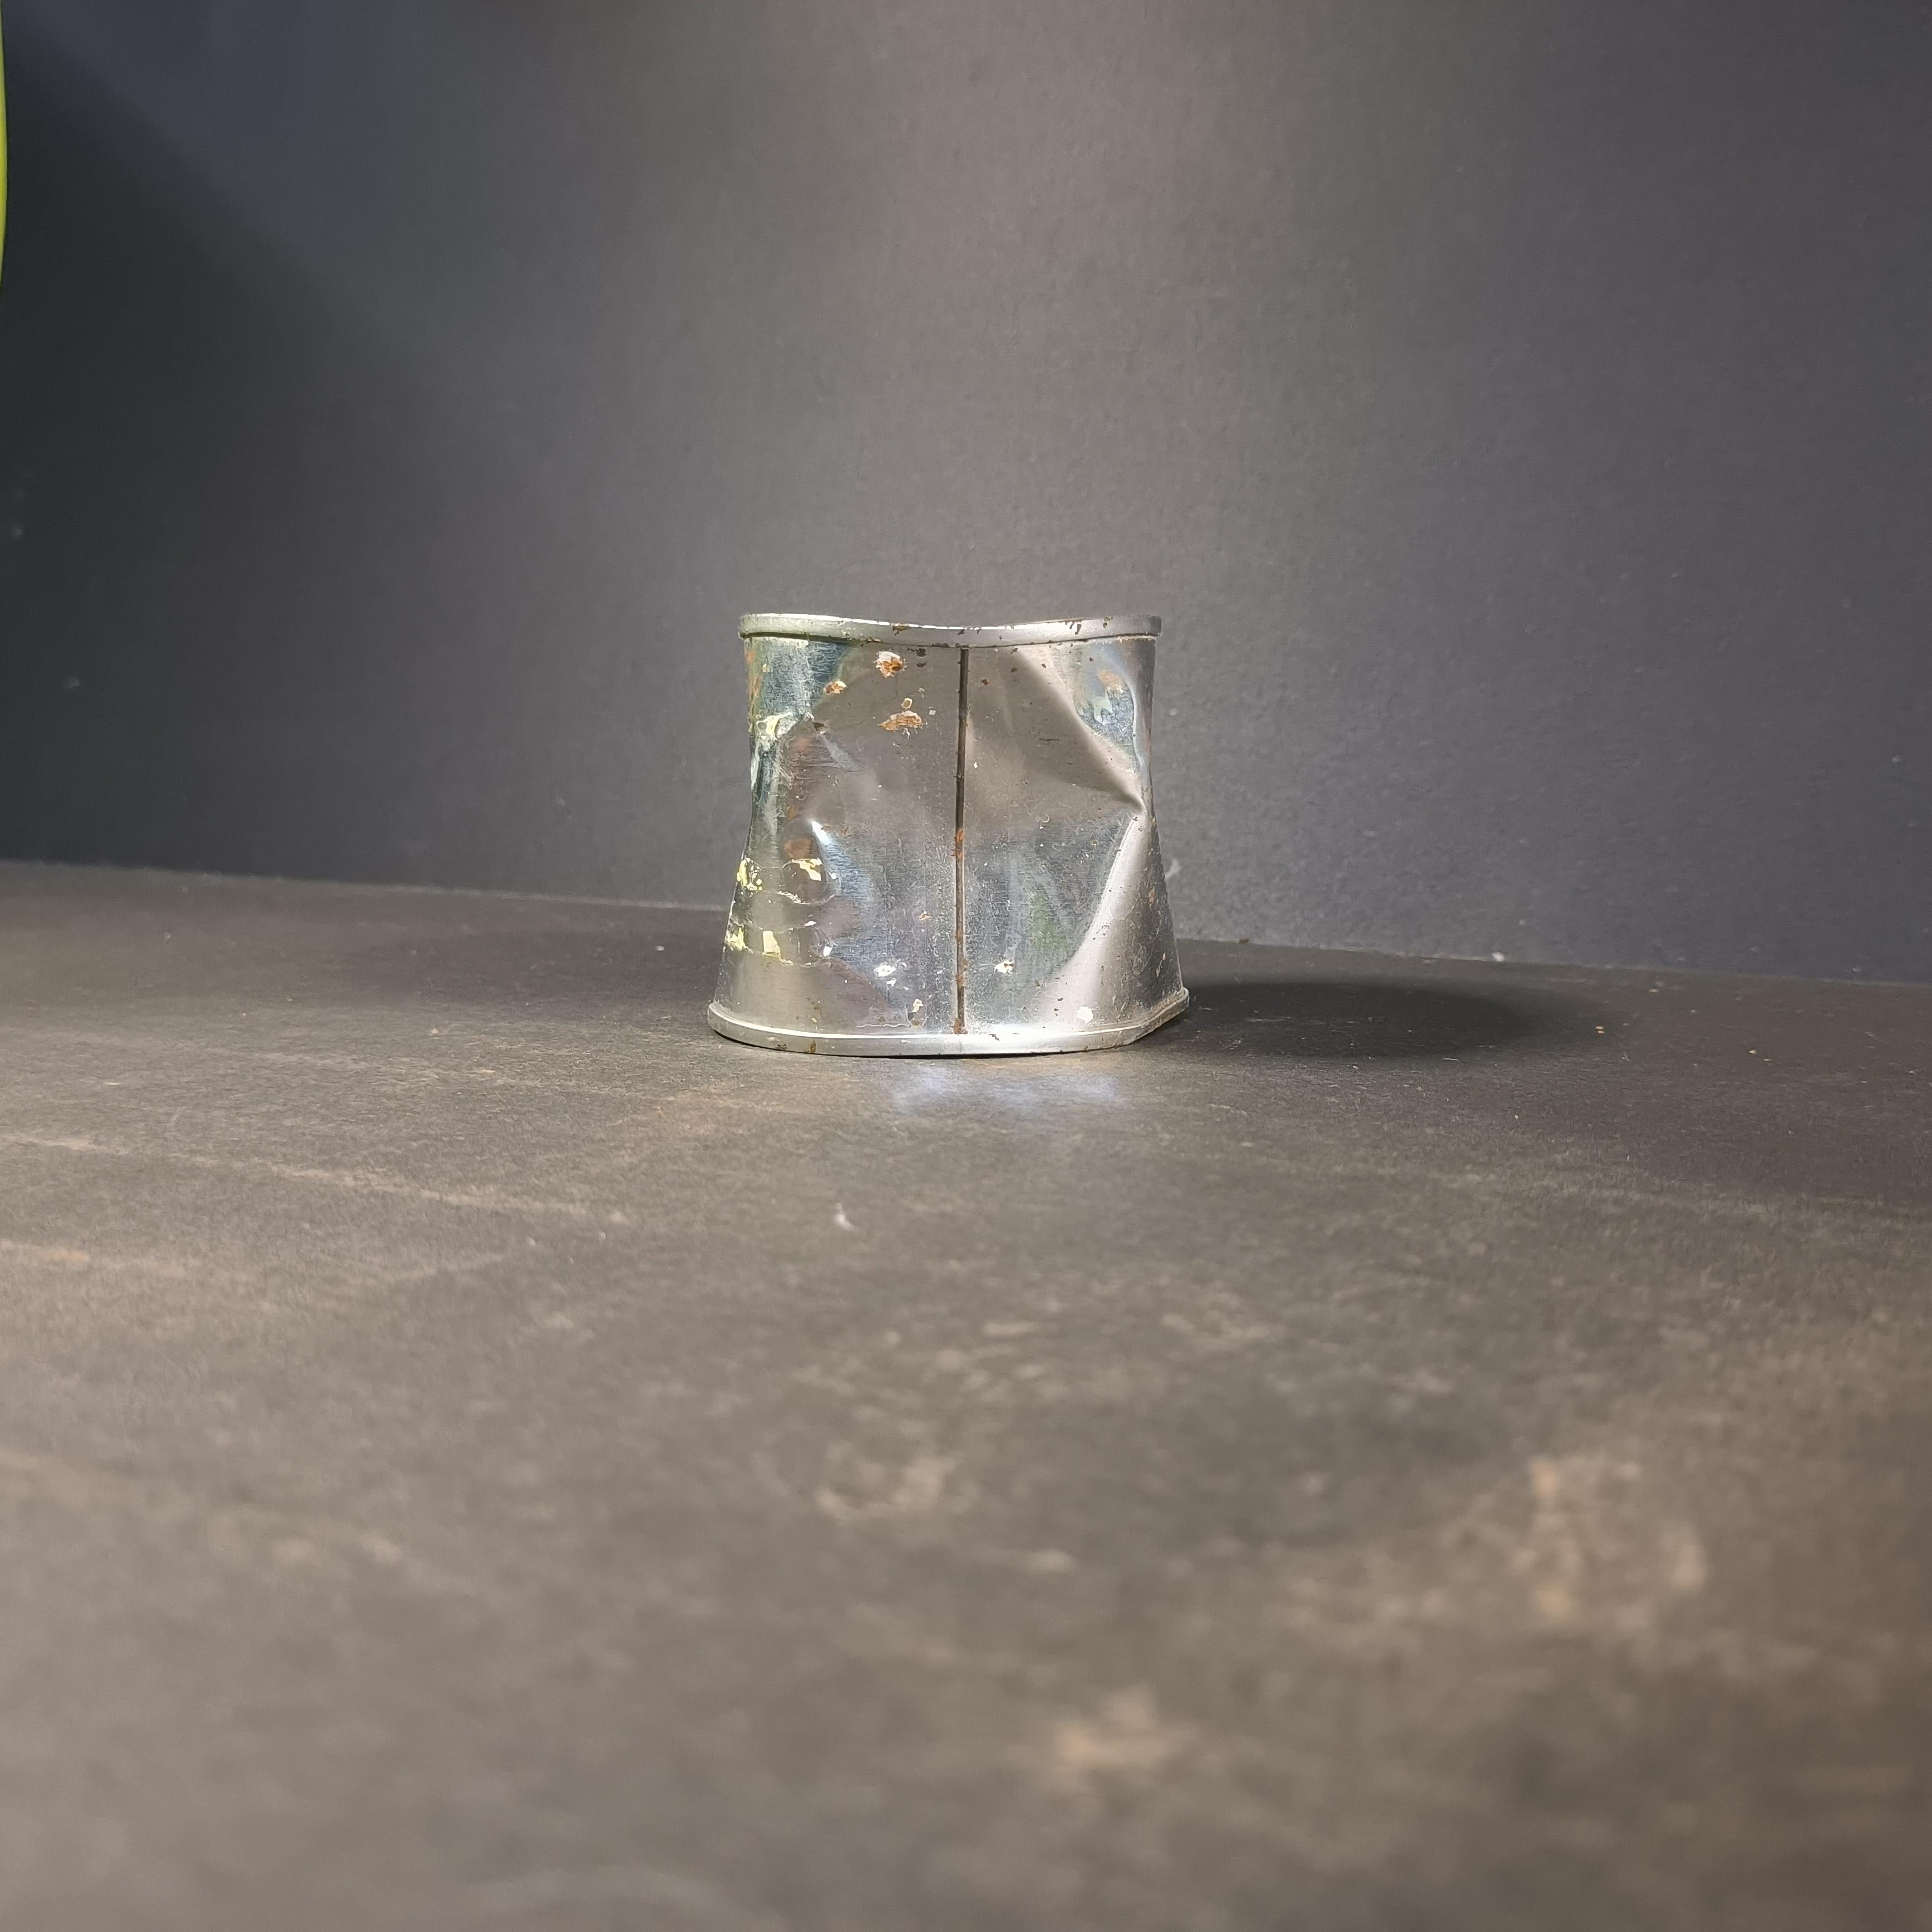Dented: (681, 584, 1215, 1051)
